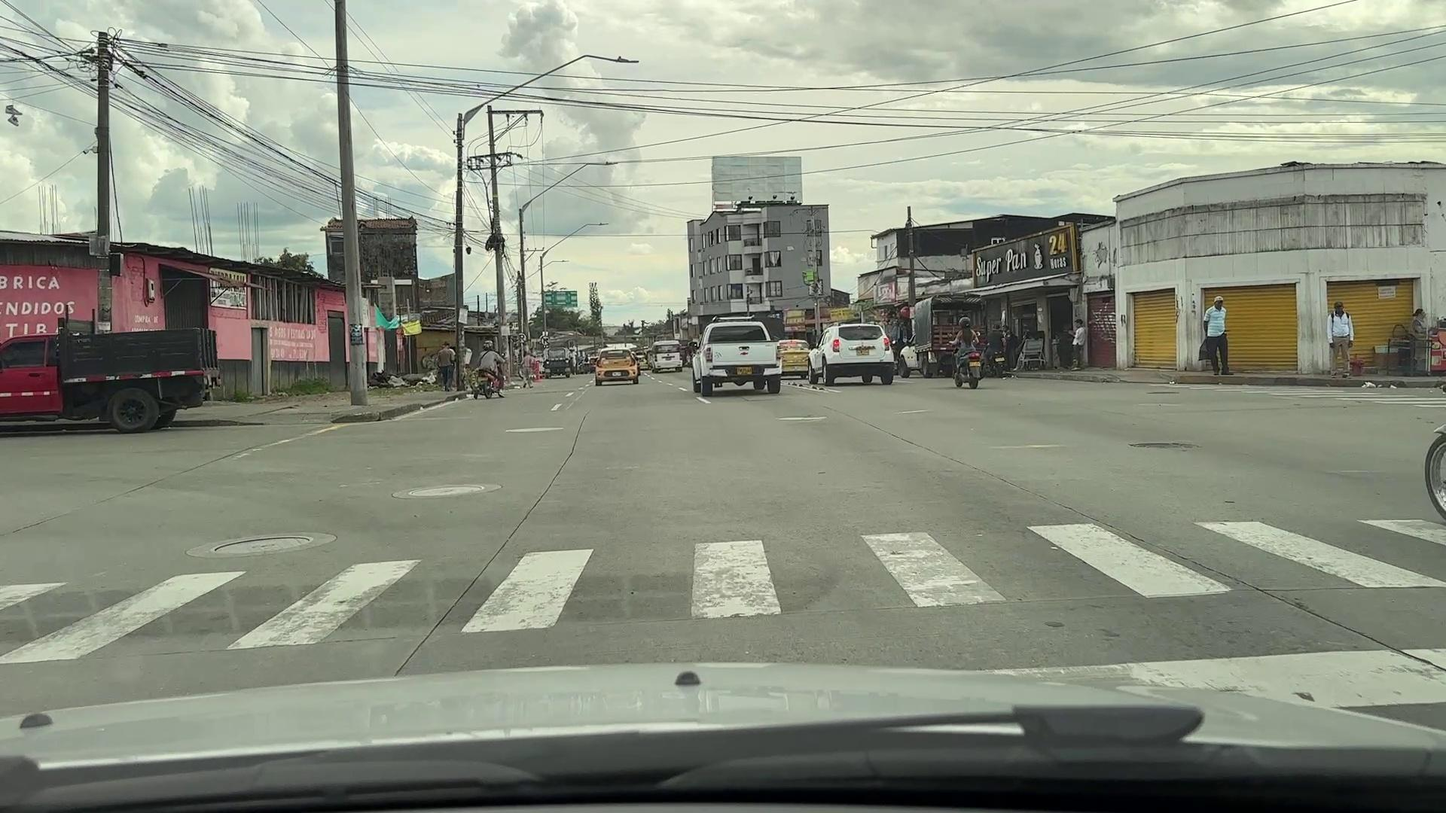registro: (210, 535, 314, 554), (409, 484, 485, 496), (1128, 443, 1197, 449), (506, 427, 564, 432), (777, 416, 829, 420)
